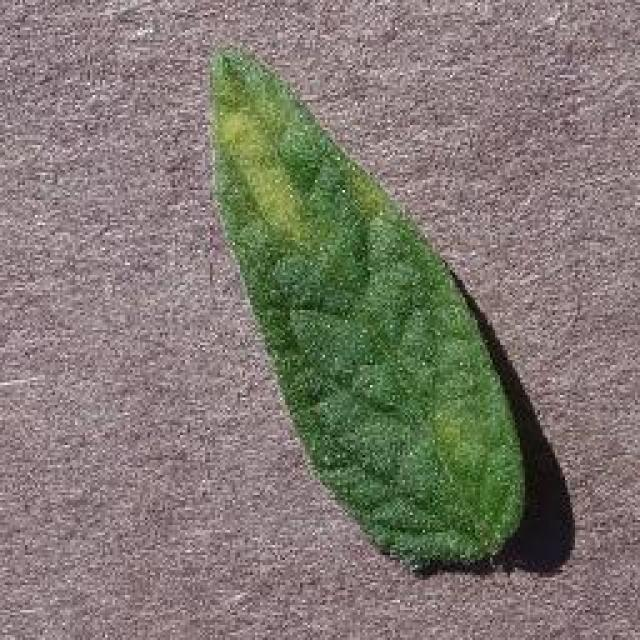Tomato mold leaf: (206, 43, 528, 572)
